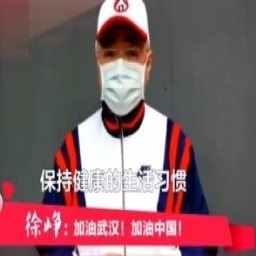correctlyWear: (92, 36, 153, 116)
